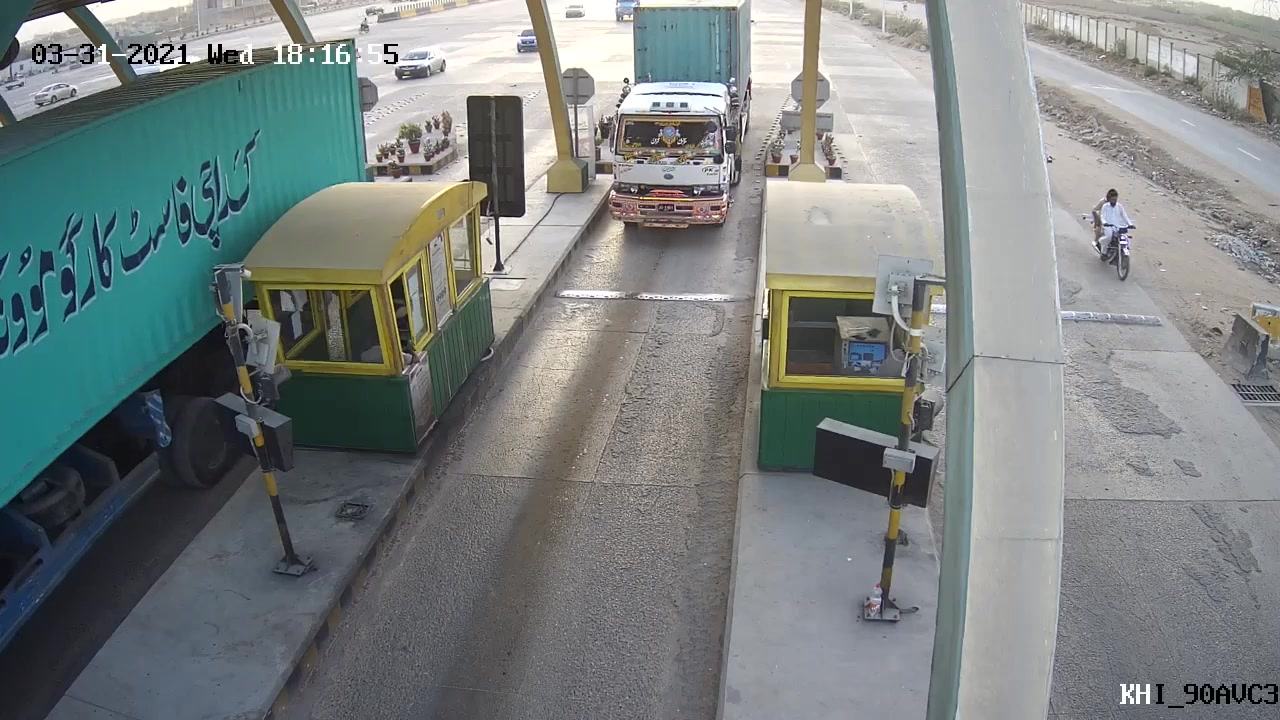F6: (589, 1, 765, 235)
